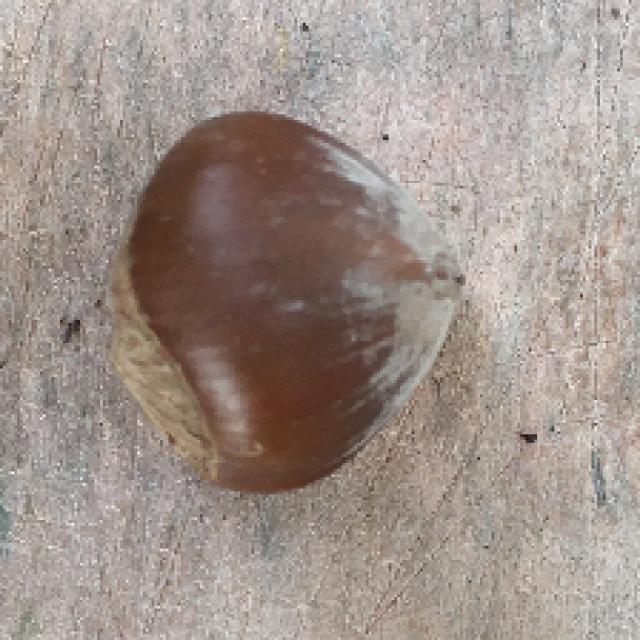qualityHazelnut: (101, 99, 467, 496)
